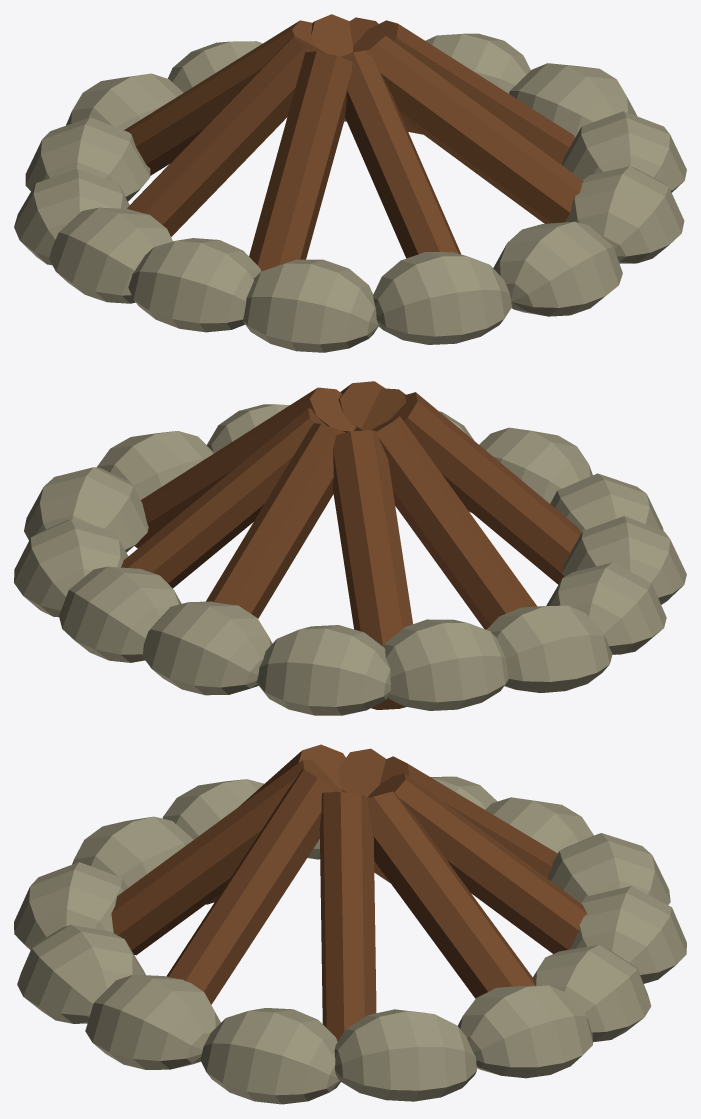
File: camp_fire4.fbx
3 renders of one model, top to bottom at view 1: azimuth 30°, elevation 25°; view 2: azimuth 150°, elevation 25°; view 3: azimuth 270°, elevation 25°, orthographic. The views are drawn at different scales.
Parts seen in each view (by area): view 1: FRIE_WOOD2, FRIE_WOOD6, FRIE_WOOD3, FRIE_WOOD5, ROCK4, ROCK6, ROCK1, ROCK13, ROCK12, ROCK9, FRIE_WOOD4, ROCK10 (+9 smaller); view 2: FRIE_WOOD4, FRIE_WOOD3, FRIE_WOOD6, FRIE_WOOD8, FRIE_WOOD7, ROCK3, ROCK, ROCK5, ROCK2, ROCK8, ROCK12, ROCK7 (+9 smaller); view 3: FRIE_WOOD7, FRIE_WOOD2, FRIE_WOOD1, FRIE_WOOD8, FRIE_WOOD5, ROCK10, ROCK11, ROCK9, ROCK7, ROCK13, ROCK, ROCK8 (+9 smaller).
Boxes of the visible parts, left/top/right/bottom form: FRIE_WOOD2: left=366, top=36, right=583, bottom=223; FRIE_WOOD6: left=249, top=51, right=352, bottom=271; FRIE_WOOD3: left=127, top=35, right=325, bottom=236; FRIE_WOOD5: left=341, top=50, right=461, bottom=258; ROCK4: left=373, top=252, right=511, bottom=344; ROCK6: left=243, top=259, right=378, bottom=352; ROCK1: left=128, top=238, right=261, bottom=332; ROCK13: left=493, top=221, right=622, bottom=316; ROCK12: left=49, top=207, right=172, bottom=303; ROCK9: left=565, top=166, right=684, bottom=263; FRIE_WOOD4: left=124, top=20, right=317, bottom=175; ROCK10: left=562, top=111, right=686, bottom=192; FRIE_WOOD4: left=332, top=430, right=412, bottom=709; FRIE_WOOD3: left=371, top=416, right=537, bottom=629; FRIE_WOOD6: left=390, top=392, right=581, bottom=584; FRIE_WOOD8: left=206, top=423, right=345, bottom=618; FRIE_WOOD7: left=121, top=408, right=326, bottom=588; ROCK3: left=256, top=625, right=390, bottom=715; ROCK: left=142, top=601, right=272, bottom=695; ROCK5: left=383, top=619, right=508, bottom=710; ROCK2: left=486, top=605, right=612, bottom=692; ROCK8: left=59, top=566, right=181, bottom=662; ROCK12: left=546, top=562, right=666, bottom=654; ROCK7: left=14, top=519, right=128, bottom=617; FRIE_WOOD7: left=367, top=791, right=535, bottom=998; FRIE_WOOD2: left=166, top=769, right=335, bottom=1004; FRIE_WOOD1: left=319, top=792, right=376, bottom=1041; FRIE_WOOD8: left=368, top=773, right=586, bottom=953; FRIE_WOOD5: left=111, top=760, right=343, bottom=955; ROCK10: left=200, top=1008, right=340, bottom=1104; ROCK11: left=334, top=1009, right=476, bottom=1101; ROCK9: left=85, top=974, right=220, bottom=1069; ROCK7: left=458, top=985, right=592, bottom=1078; ROCK13: left=17, top=925, right=145, bottom=1023; ROCK: left=570, top=886, right=686, bottom=983; ROCK8: left=532, top=945, right=651, bottom=1042.
Size of the model in its own units: 129 by 43.71 by 123.
